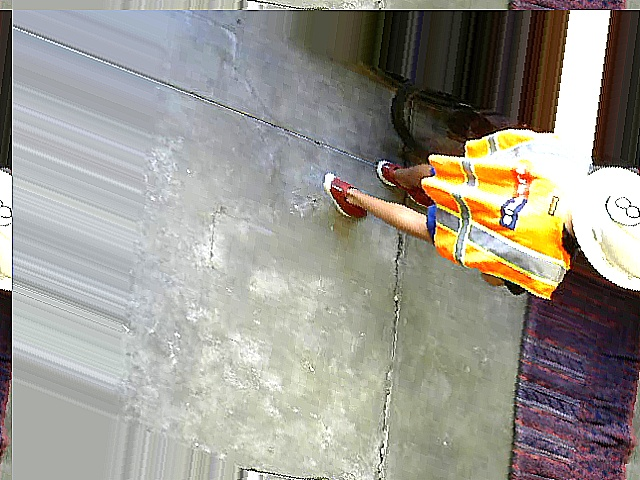eight: (602, 176, 639, 235)
